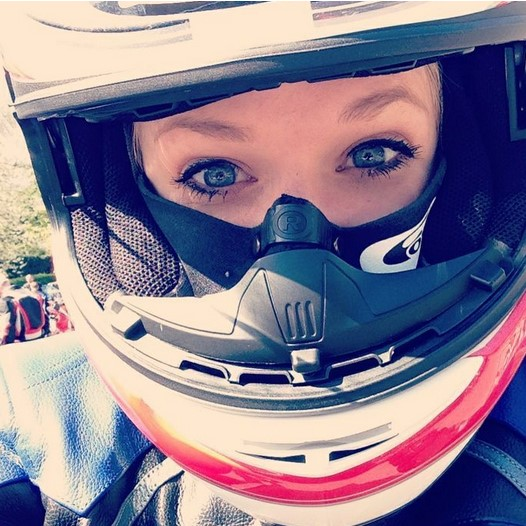face_with_mask: (2, 5, 524, 521)
